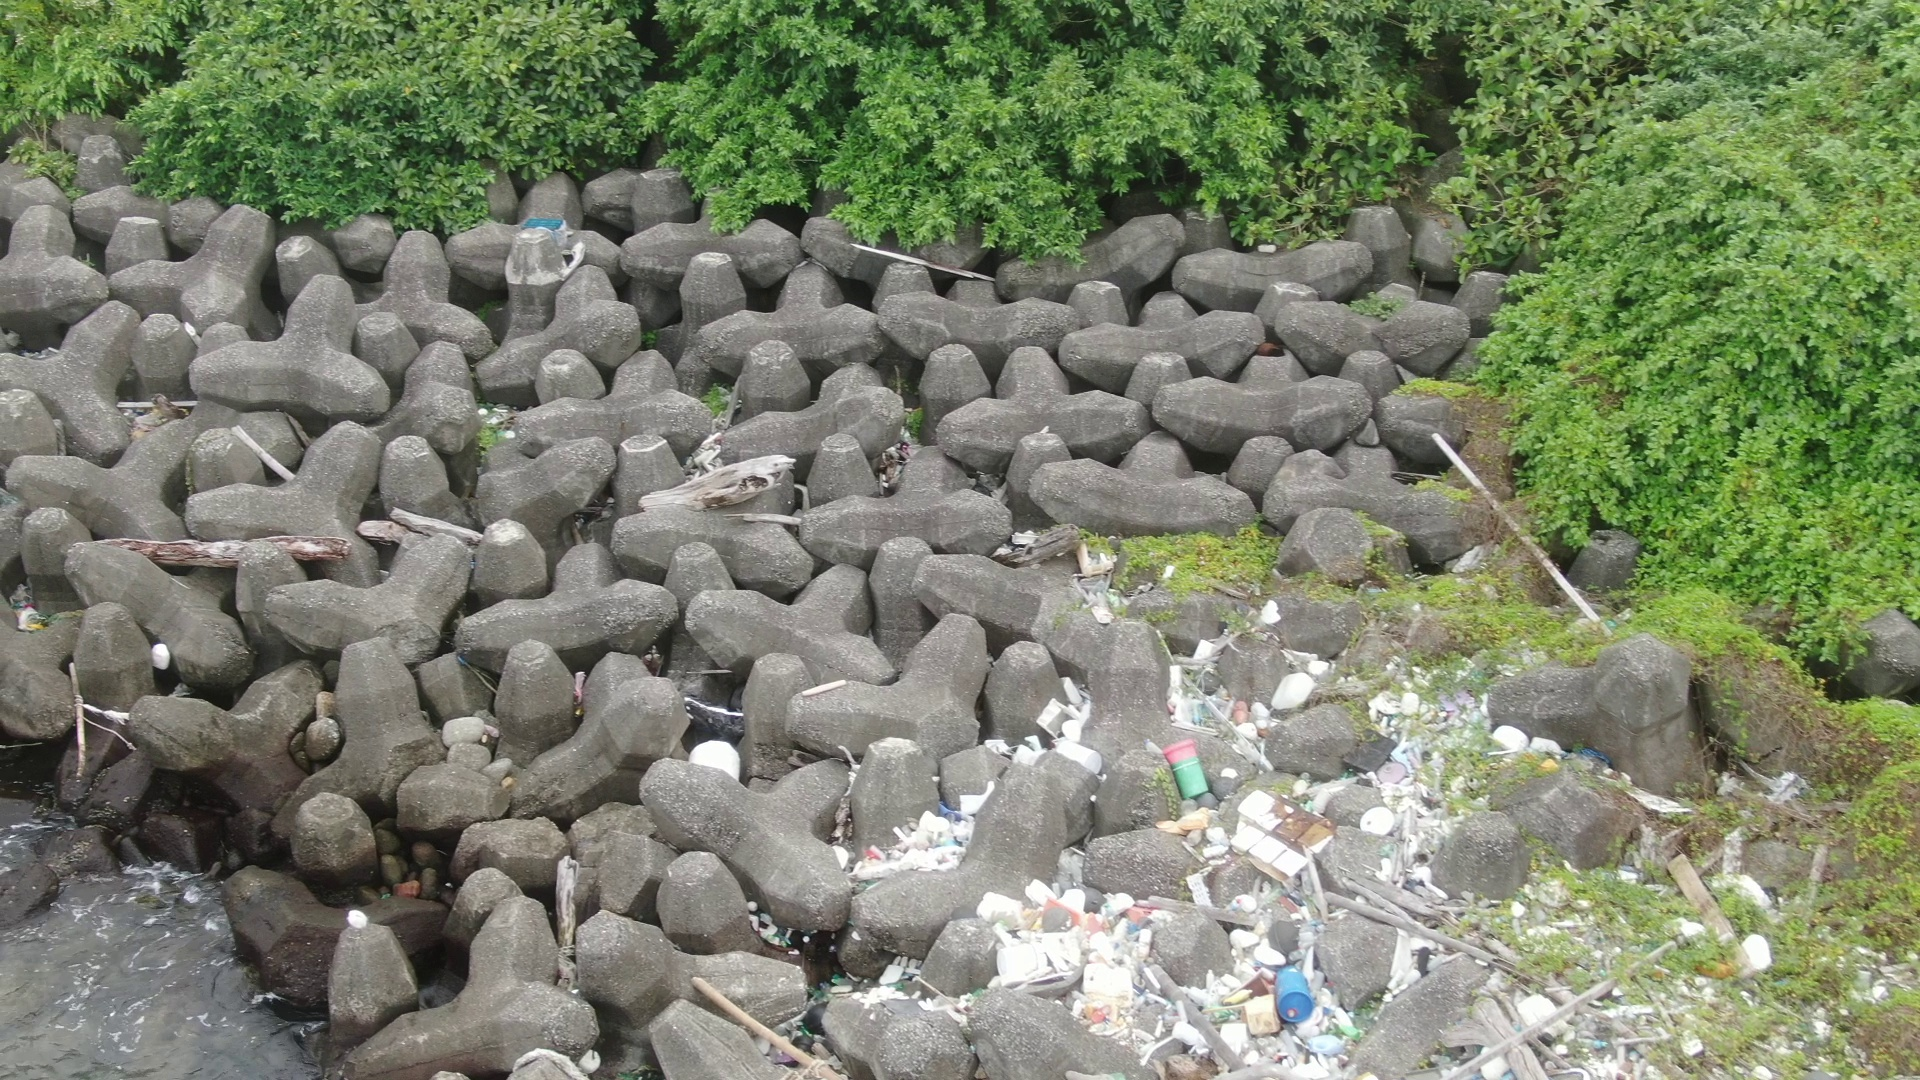garbage: (862, 589, 1614, 1080), (737, 895, 860, 1080), (1662, 916, 1785, 996), (5, 567, 51, 644), (473, 396, 525, 448), (514, 211, 580, 249)
